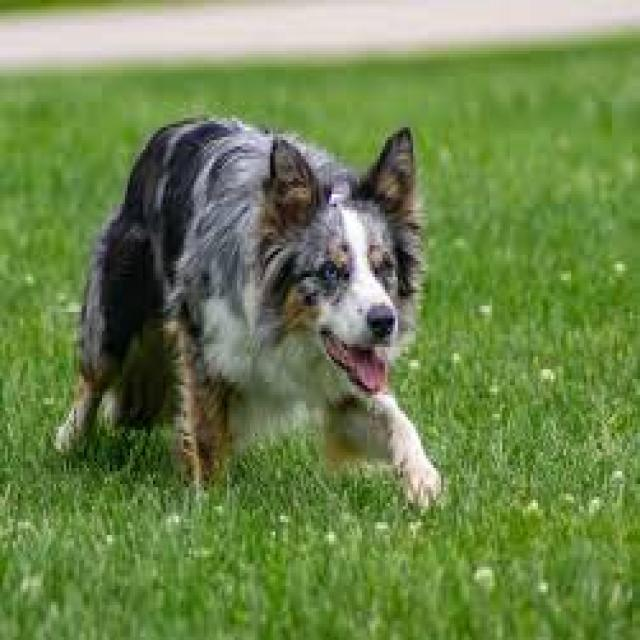ALASKAN_MALAMUTE: (33, 95, 485, 516)
